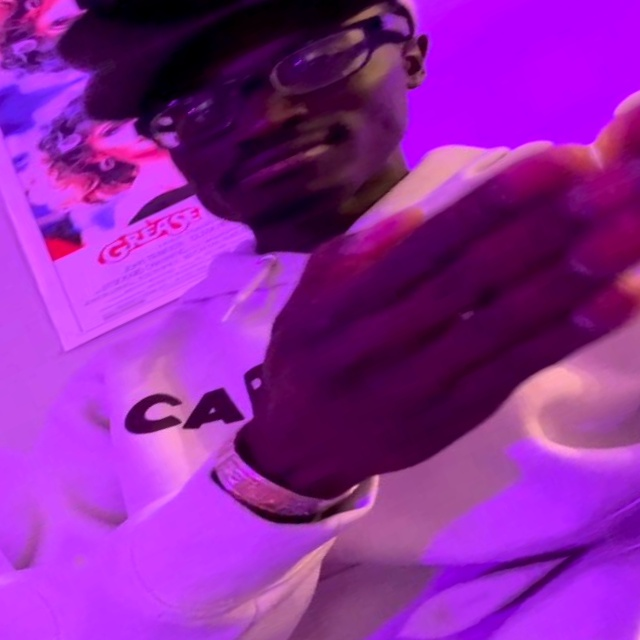Paper: (188, 116, 640, 527)
